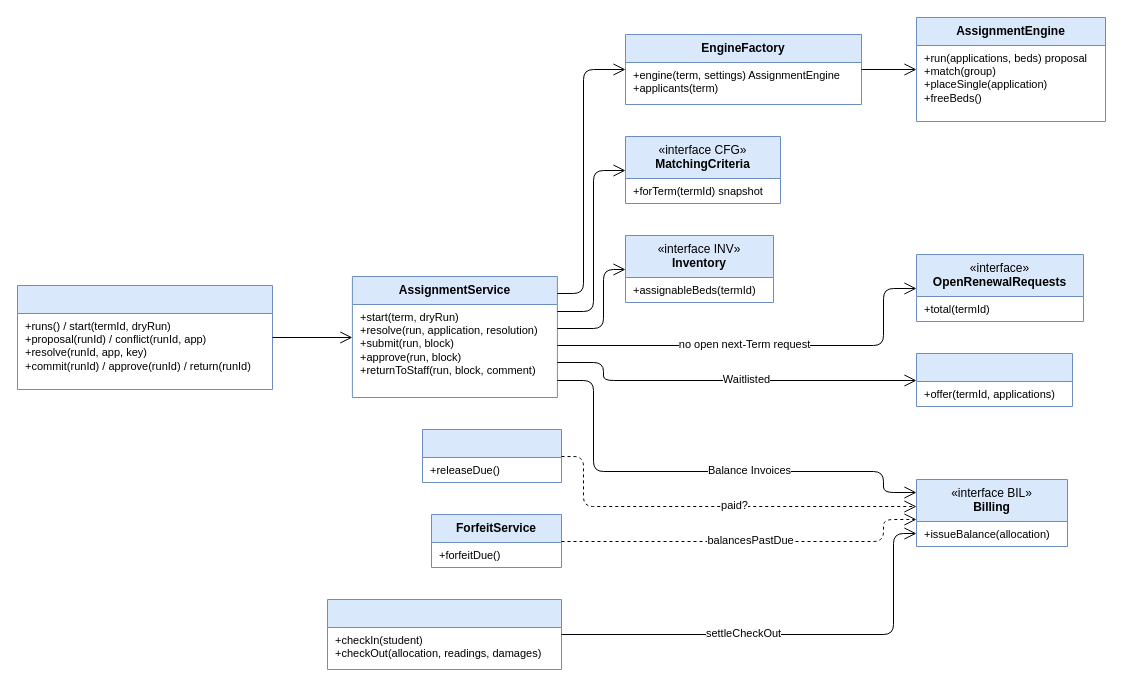
Some shapes in this 1123 by 690 pixel diagram are drawn without their labels. Here are the shapes that lost their labels. From the top down, the box of each, then its label:
(16, 284, 272, 390): AssignmentController
(916, 352, 1072, 406): Round2Offers
(422, 428, 562, 482): DoorCodeRelease
(326, 598, 562, 670): DeskService
